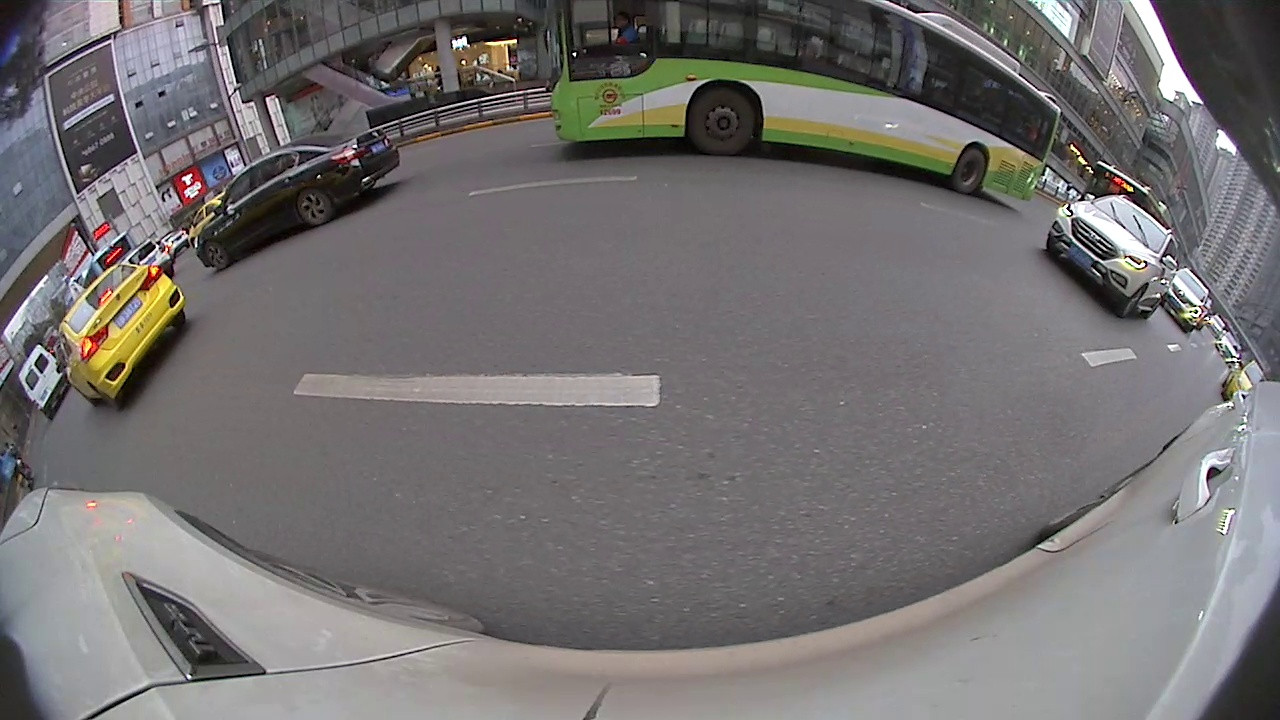bus: (542, 1, 1062, 203)
car: (196, 128, 403, 271), (53, 259, 187, 410), (1041, 200, 1177, 319), (1151, 267, 1216, 333), (19, 346, 69, 422)
front: (689, 88, 760, 158), (1119, 281, 1146, 321), (199, 241, 231, 272)
rear: (950, 149, 987, 196), (295, 188, 332, 228)
